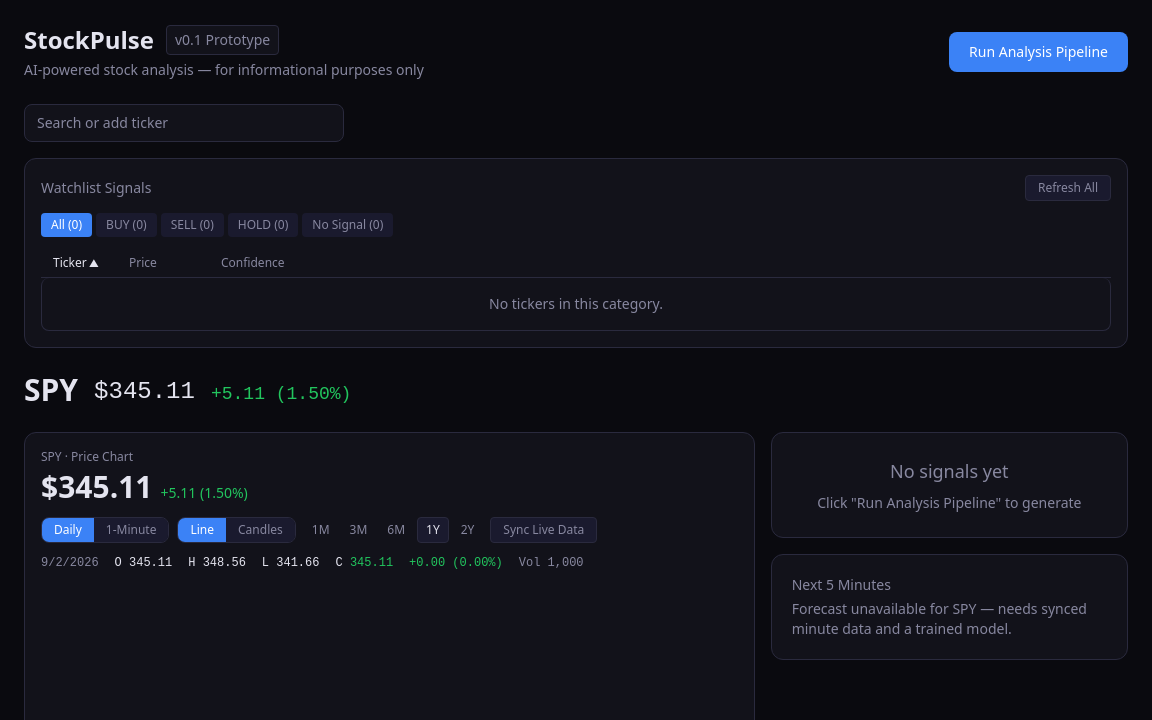
Test: Dashboard › shows a connectivity error when the backend is unreachable
Click the button "Run Analysis Pipeline" at (1039, 52), box x1=949 y1=32 x2=1128 y2=72
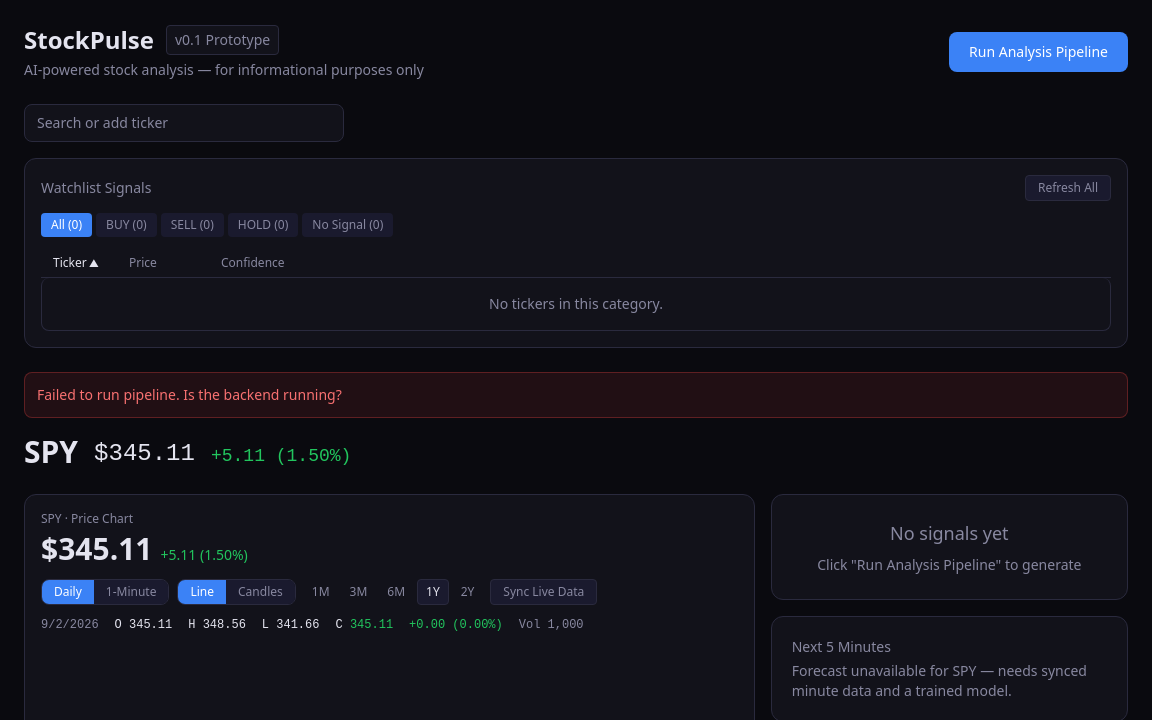
Check: the text "Failed to run pipeline. Is the backend running?" is shown, box x1=24 y1=372 x2=1128 y2=418
